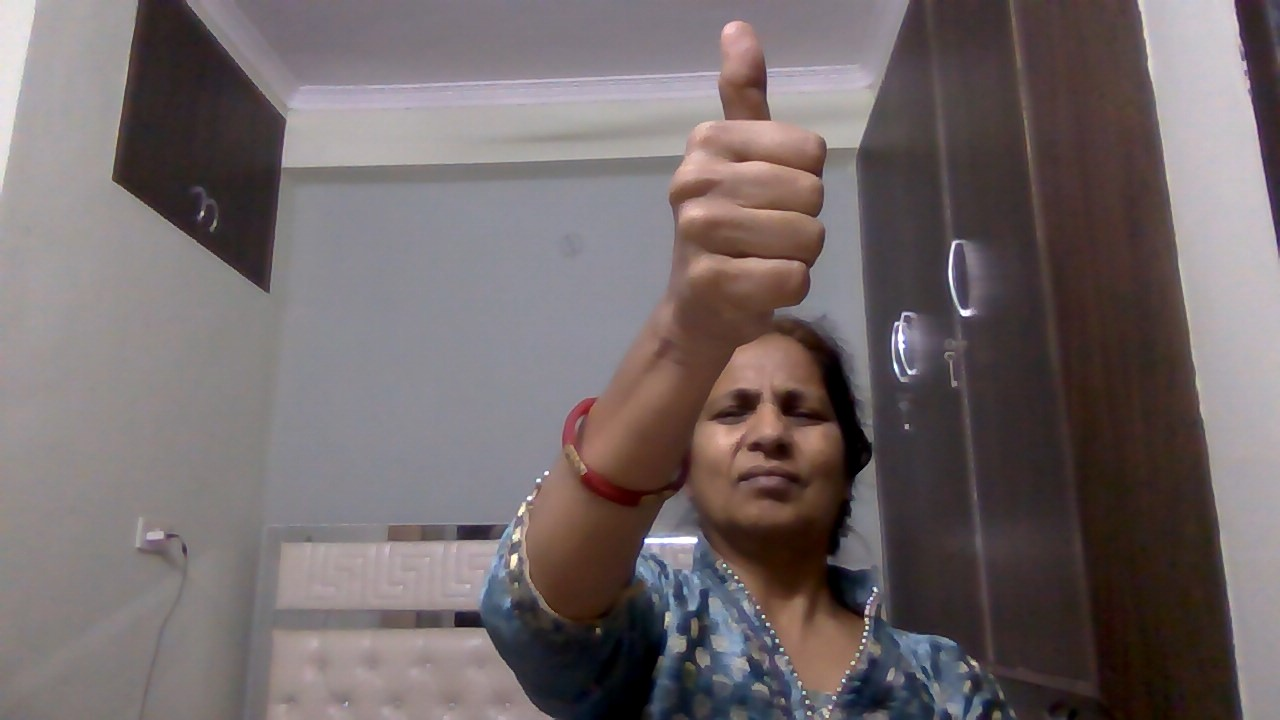Save: (663, 12, 850, 367)
